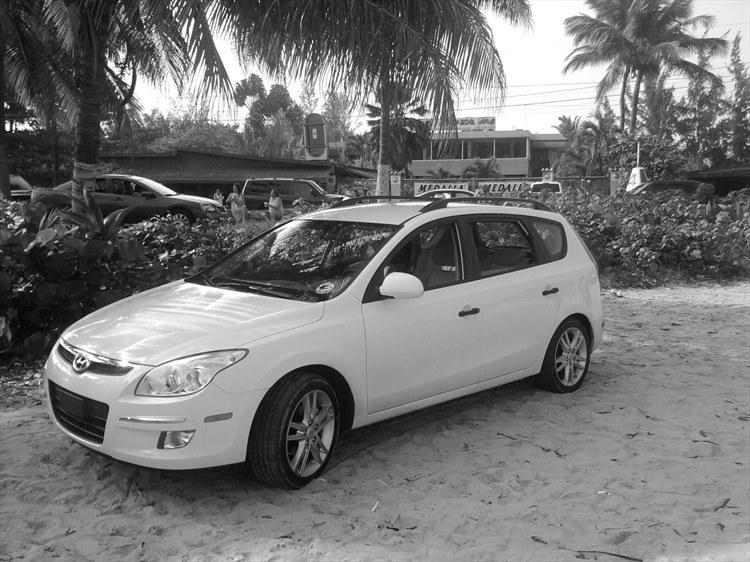car: (42, 193, 605, 476)
